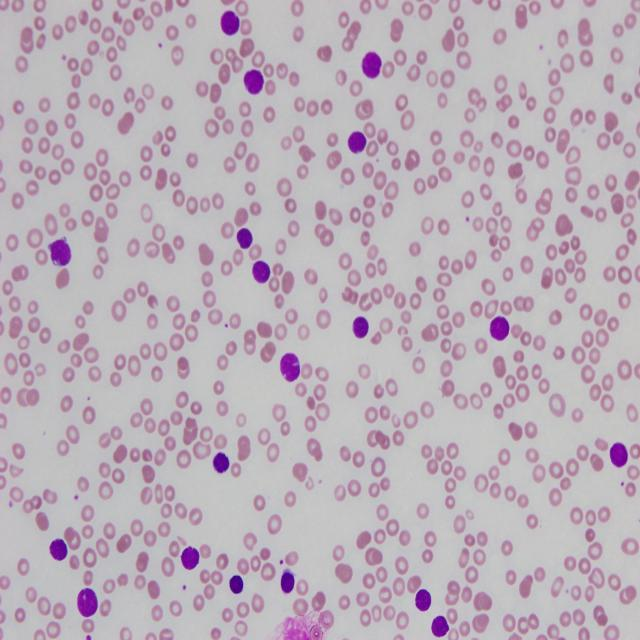cell: (78, 588, 98, 617), (244, 70, 264, 95), (362, 52, 381, 78), (490, 317, 510, 341), (221, 10, 240, 35), (181, 547, 200, 570), (212, 451, 230, 475), (610, 443, 628, 467), (252, 260, 270, 283), (431, 615, 449, 637), (50, 538, 68, 560), (348, 132, 366, 153), (352, 317, 369, 338), (415, 590, 431, 612), (281, 570, 295, 593), (236, 228, 252, 248), (230, 575, 244, 593)
